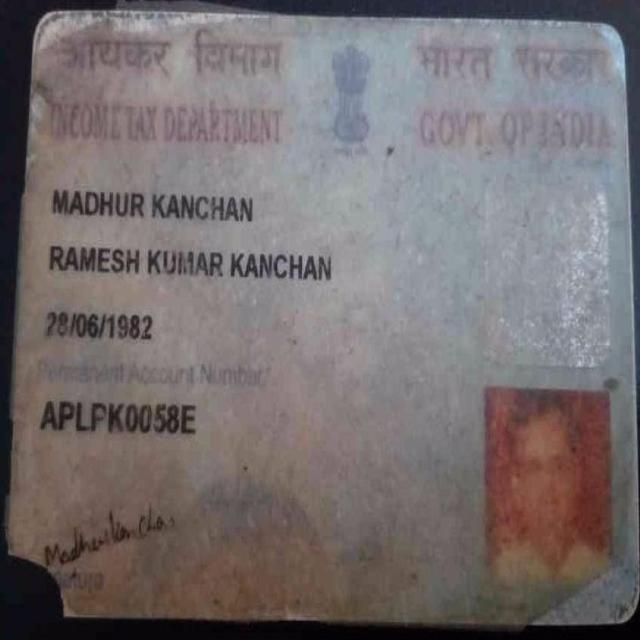pan_card: (13, 17, 632, 615)
